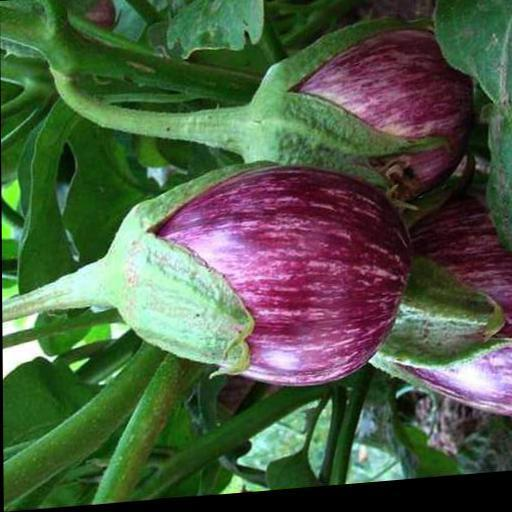eggplant: (52, 18, 510, 448), (17, 158, 415, 406), (64, 42, 456, 226)
